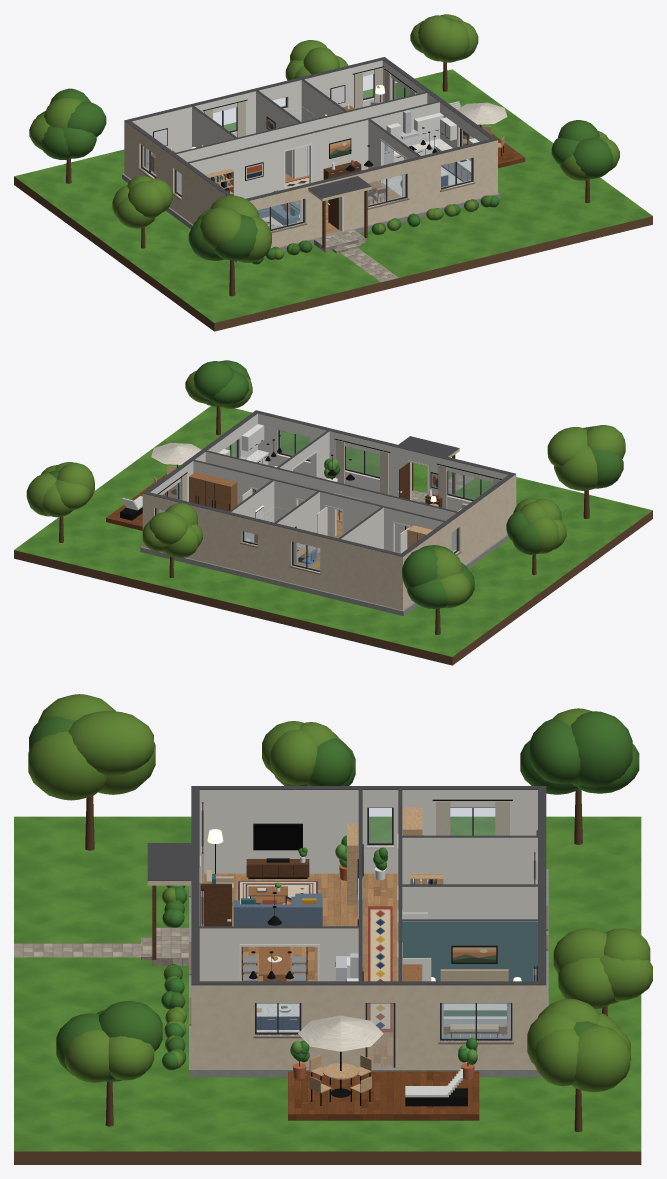
The picture shows the model from 3 angles, top to bottom: view 1: azimuth 30°, elevation 25°; view 2: azimuth 150°, elevation 25°; view 3: azimuth 270°, elevation 25°; orthographic projection. The views are drawn at different scales.
Parts seen in each view (by area): view 1: House; view 2: House; view 3: House.
Boxes of the visible parts, left/top/right/bottom form: House: left=14, top=14, right=652, bottom=331; House: left=14, top=360, right=652, bottom=665; House: left=14, top=694, right=652, bottom=1164.
Size of the model in its own units: 24.19 by 5.2 by 19.36.
69 materials, 33 textured.
